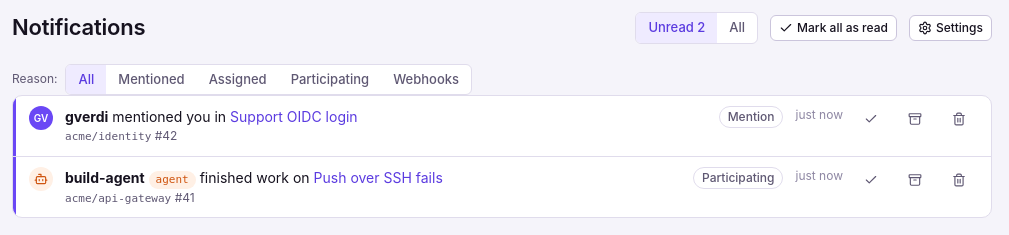
NotificationsPage › segna come letta e ricarica la casella
What coordinates should you click on to do the following:
click the button named "Mark as read: mentioned you in"
I would click on:
 (871, 119)
Its box is [855,106,887,132].
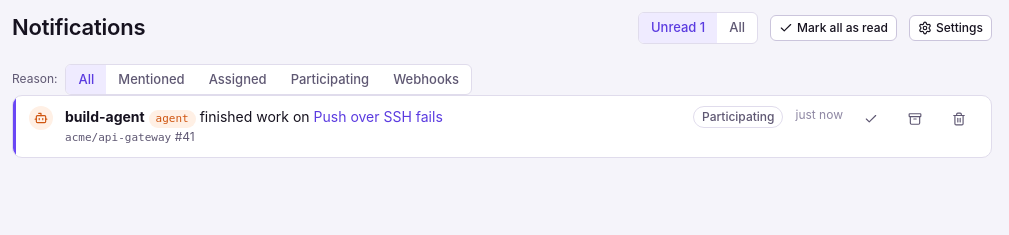
Check: the number of list items with test id "notification" is 1, box [13,96,991,157]
